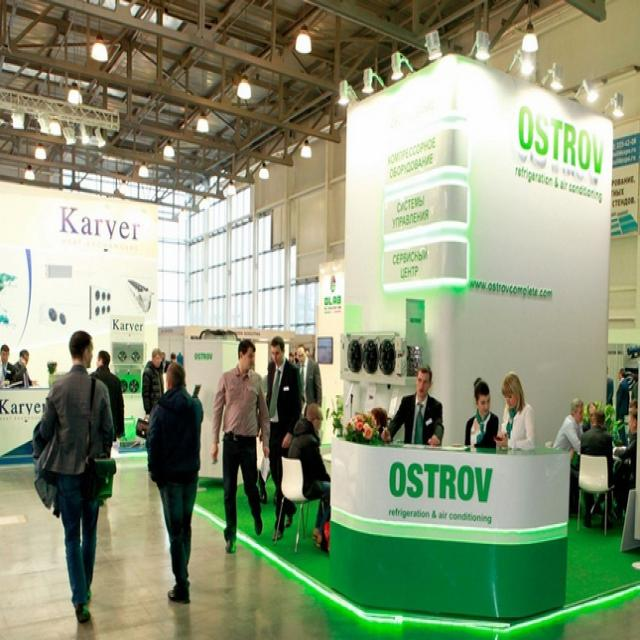body: (31, 328, 116, 626), (142, 355, 205, 609), (209, 335, 273, 557), (265, 335, 303, 541), (285, 400, 331, 552), (379, 361, 446, 448), (579, 408, 615, 533), (551, 396, 585, 517), (133, 348, 164, 472), (492, 370, 538, 452), (87, 348, 125, 447), (611, 408, 639, 523), (464, 374, 499, 448), (294, 342, 324, 420), (615, 366, 631, 449), (10, 346, 41, 386), (286, 338, 316, 369), (580, 401, 608, 434), (0, 342, 17, 388), (604, 365, 616, 420), (628, 366, 639, 414), (160, 348, 177, 374)
